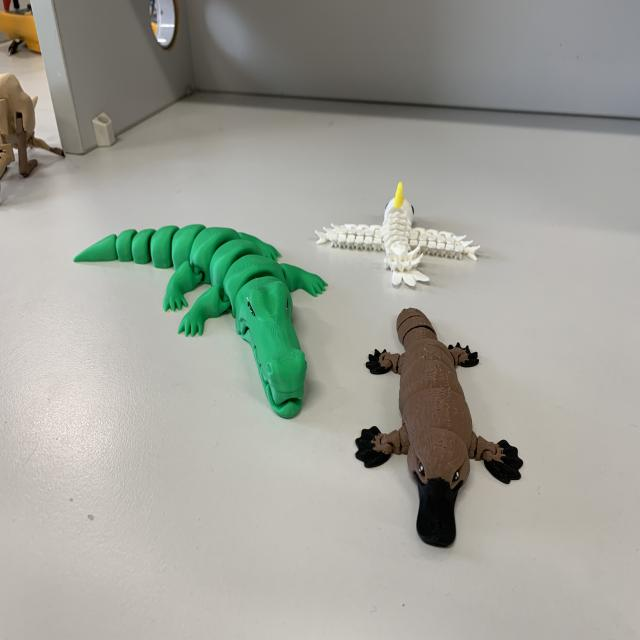cockatoo: (312, 184, 485, 298)
crocodile: (54, 208, 333, 424)
platypus: (355, 304, 531, 555)
